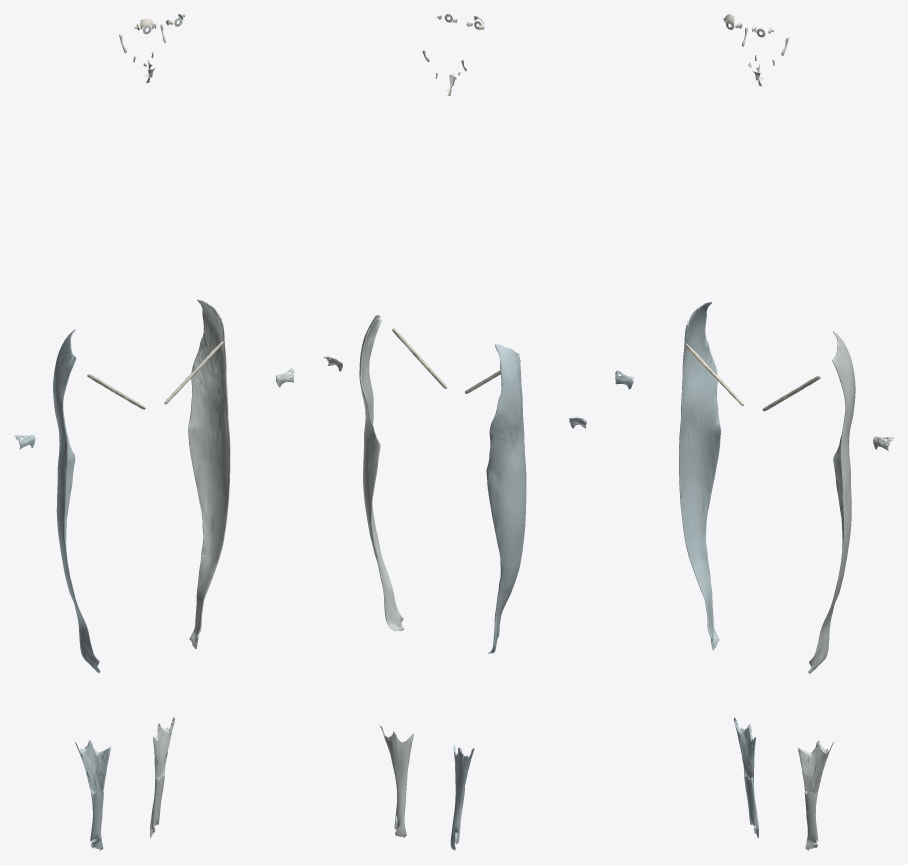
Rendered from connective.glb.
3 views of the same model, side by side, from view 1: azimuth 30°, elevation 25°; view 2: azimuth 150°, elevation 25°; view 3: azimuth 330°, elevation 25° (orthographic). The views are drawn at different scales.
Visible parts, largest first — view 1: connective-FJ1423M, connective-FJ1423, connective-FJ1405, connective-FJ1405M; view 2: connective-FJ1423, connective-FJ1423M, connective-FJ1405M, connective-FJ1405; view 3: connective-FJ1423, connective-FJ1423M, connective-FJ1405M, connective-FJ1405.
Part boxes in pixels (<box>): connective-FJ1423M: <box>188,299,230,649</box>; connective-FJ1423: <box>53,329,100,672</box>; connective-FJ1405: <box>74,740,110,850</box>; connective-FJ1405M: <box>150,716,175,837</box>; connective-FJ1423: <box>486,344,526,653</box>; connective-FJ1423M: <box>359,315,404,630</box>; connective-FJ1405M: <box>380,726,413,837</box>; connective-FJ1405: <box>450,744,474,850</box>; connective-FJ1423: <box>679,301,721,650</box>; connective-FJ1423M: <box>808,331,855,673</box>; connective-FJ1405M: <box>797,740,833,850</box>; connective-FJ1405: <box>733,717,758,837</box>.
Size of the model in its own units: 7.96 by 23.41 by 2.07.
